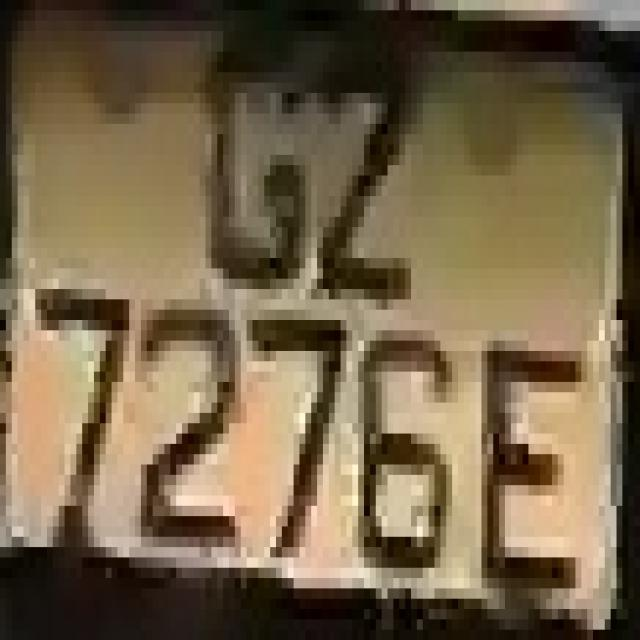2: (123, 268, 241, 588)
6: (352, 289, 458, 609)
7: (18, 258, 141, 568), (235, 278, 346, 568)
E: (470, 299, 581, 630)
G: (188, 31, 317, 289)
Z: (311, 21, 429, 320)
